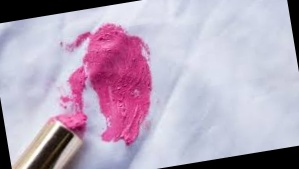lipstick: (53, 21, 170, 150)
